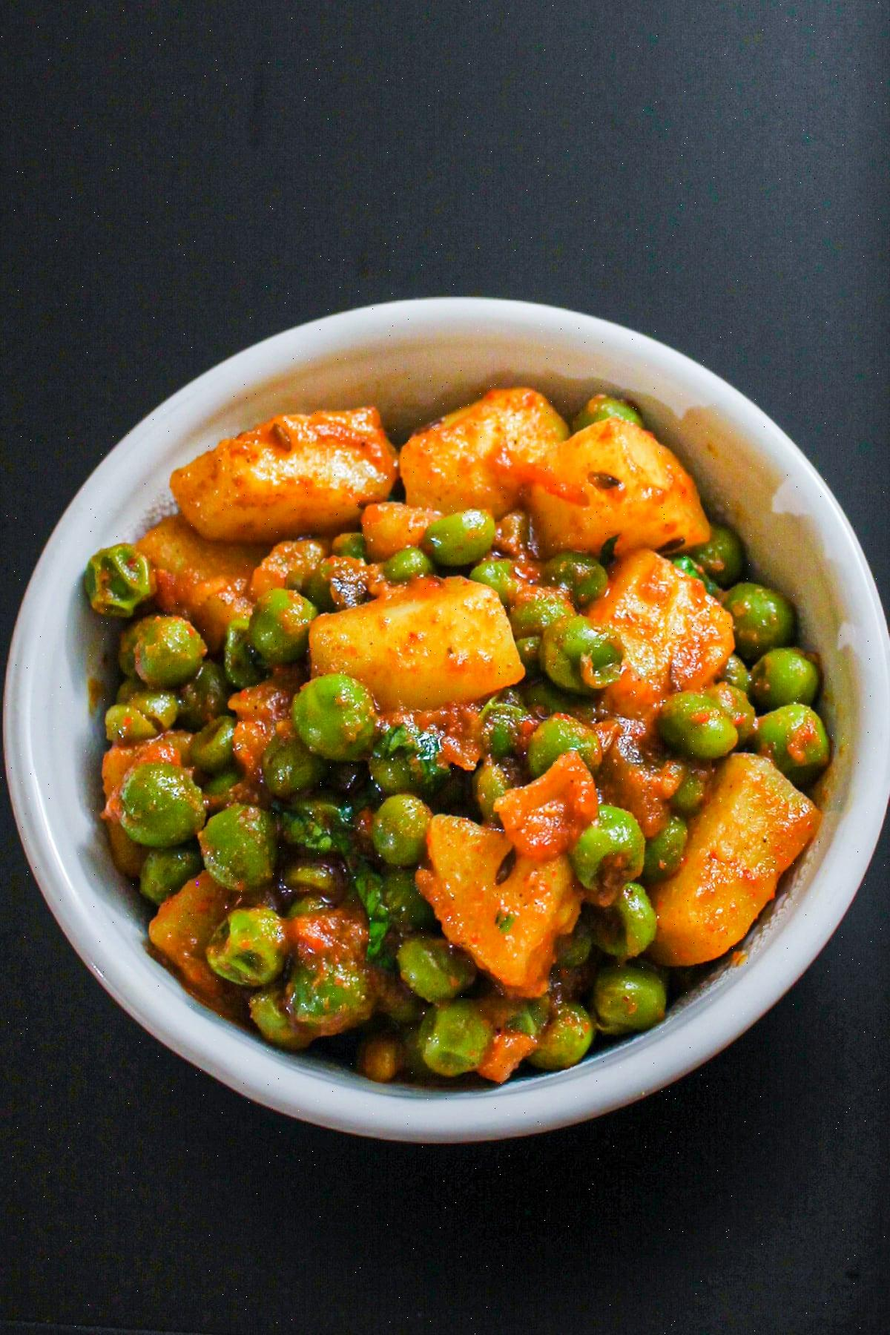aloo sabji: (112, 391, 839, 1073)
